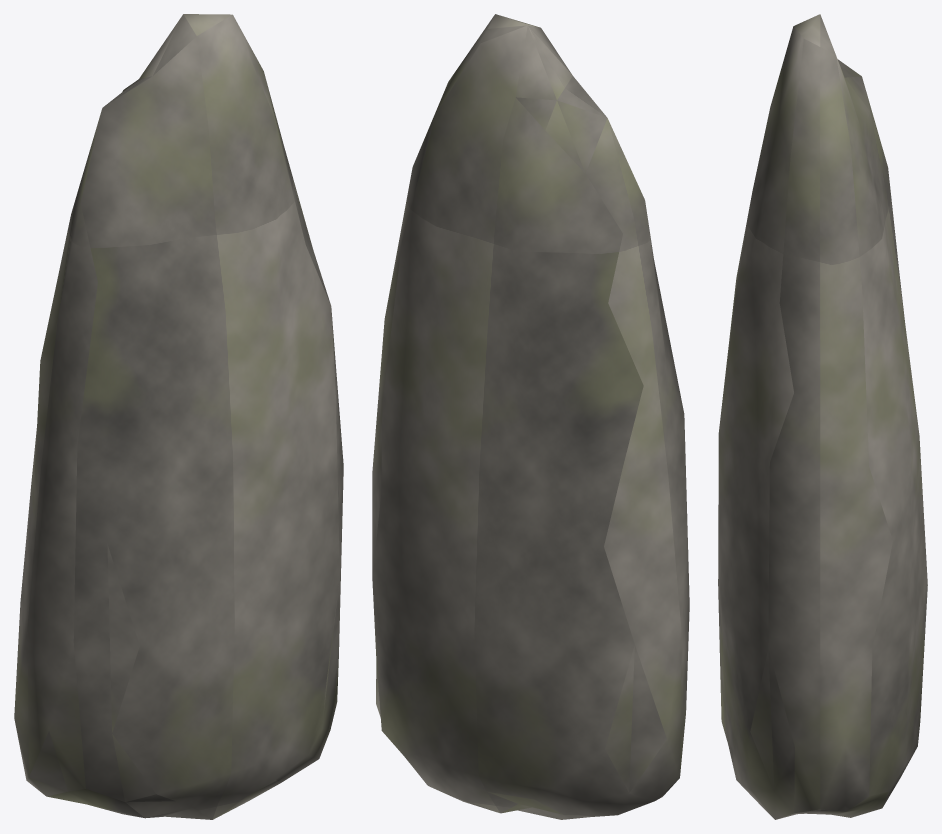
File: Standing_Stone_1_LOD1.gltf
The picture shows the model from 3 angles, left to right: view 1: azimuth 30°, elevation 25°; view 2: azimuth 150°, elevation 25°; view 3: azimuth 270°, elevation 25°; orthographic projection.
Visible parts, largest first — view 1: Standing_Stone_1_LOD1; view 2: Standing_Stone_1_LOD1; view 3: Standing_Stone_1_LOD1.
Part boxes in pixels (x1=…): Standing_Stone_1_LOD1: x1=14, y1=14, x2=343, y2=819; Standing_Stone_1_LOD1: x1=372, y1=14, x2=689, y2=819; Standing_Stone_1_LOD1: x1=718, y1=14, x2=927, y2=819.
Bounding box in the file's own units: 1.55 × 3.78 × 0.9142.
Materials: 1 (1 with a texture image).
